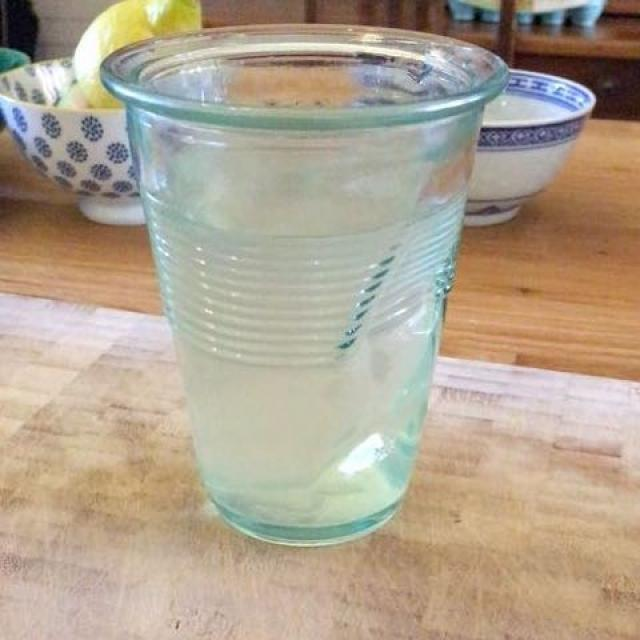drink: (139, 85, 489, 503)
